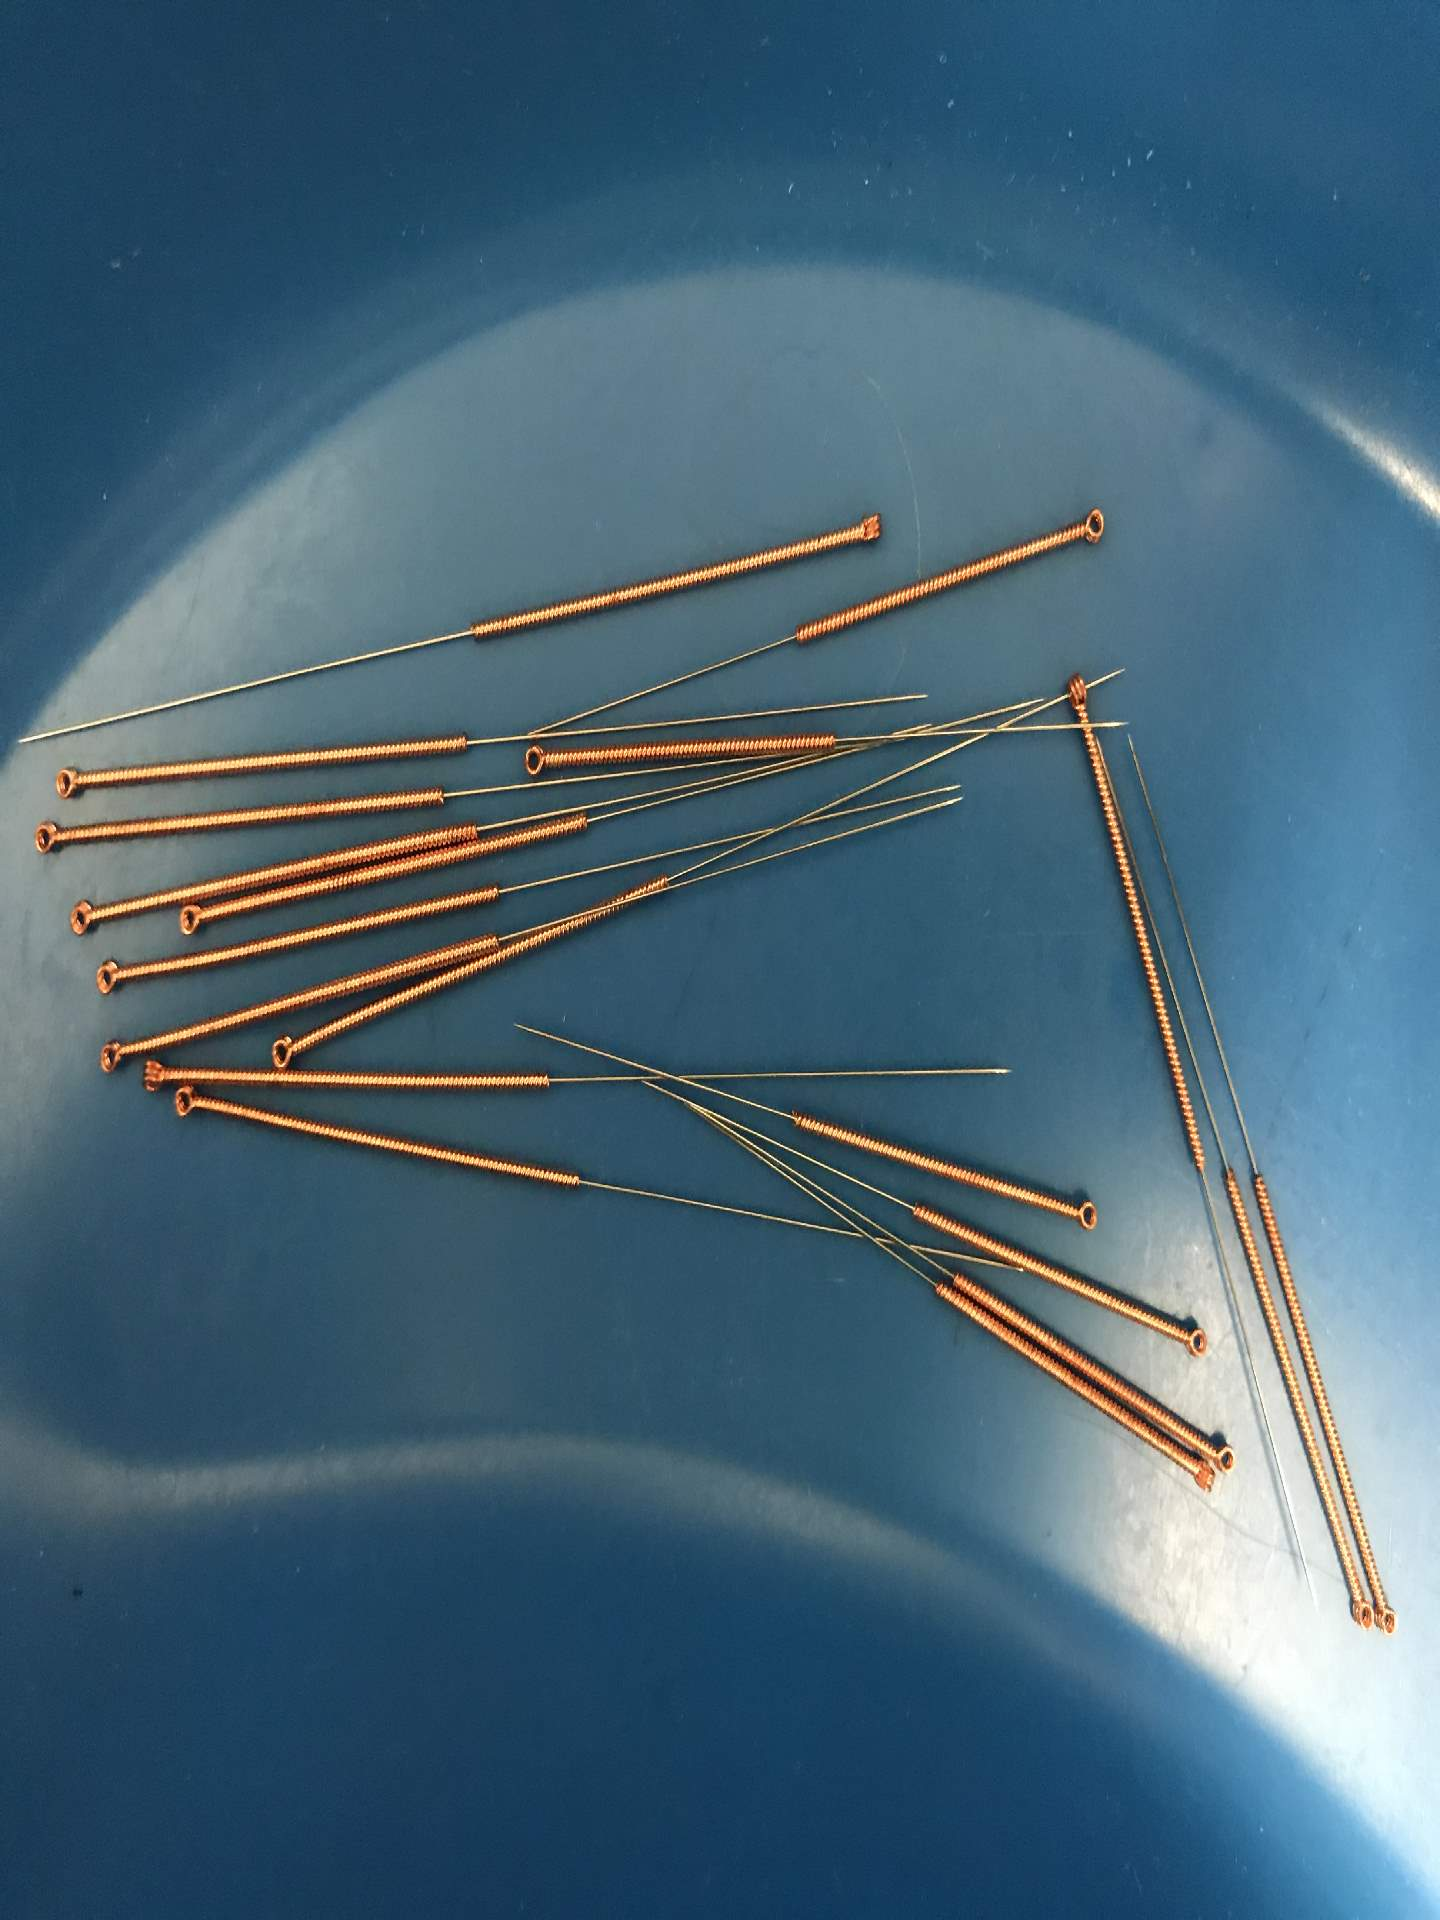needle: (841, 503, 894, 555), (1063, 499, 1115, 552), (61, 890, 110, 943), (1054, 665, 1100, 723), (41, 757, 92, 807), (85, 952, 135, 1001), (162, 1079, 210, 1129), (260, 1027, 309, 1076), (511, 736, 563, 783), (24, 813, 73, 862), (85, 1036, 135, 1081), (1063, 1187, 1106, 1240), (169, 895, 215, 943), (1342, 1581, 1379, 1637), (1369, 1589, 1405, 1643), (1175, 1318, 1215, 1367), (135, 1054, 175, 1098), (1180, 1457, 1221, 1500), (1204, 1435, 1243, 1477)
